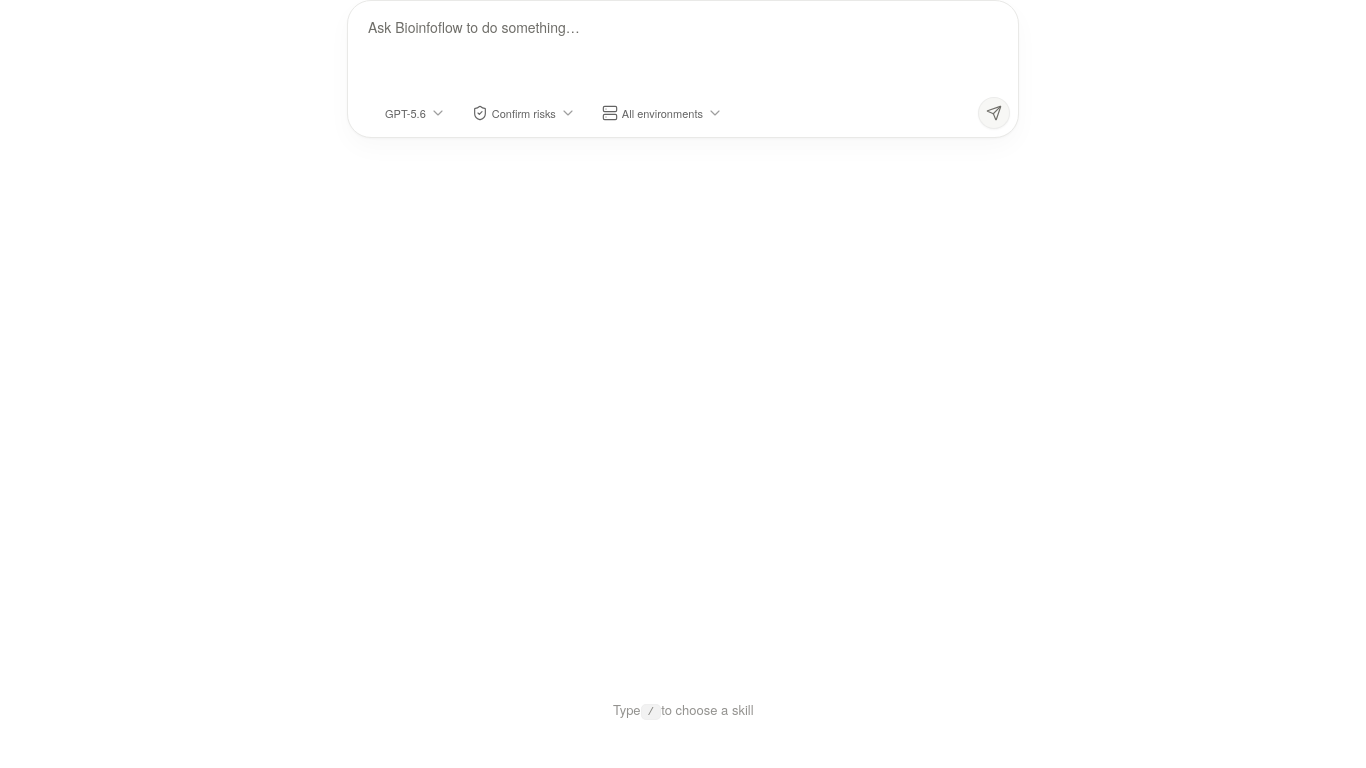
Scenario: AgentComposer › uses one option presentation across model, permission, and environment menus
Click the dropdown labelled "GPT-5.6": [405, 113] box [356, 97, 455, 129]
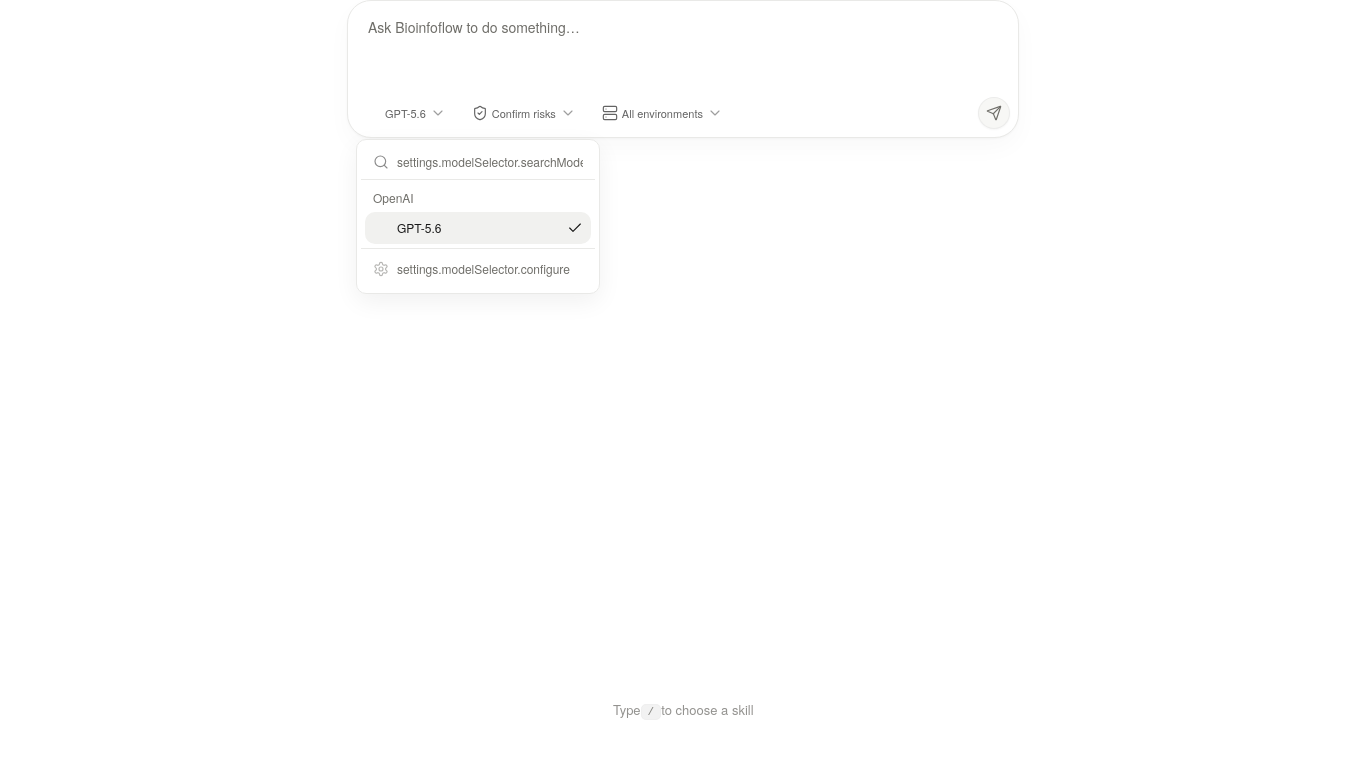
Press Escape
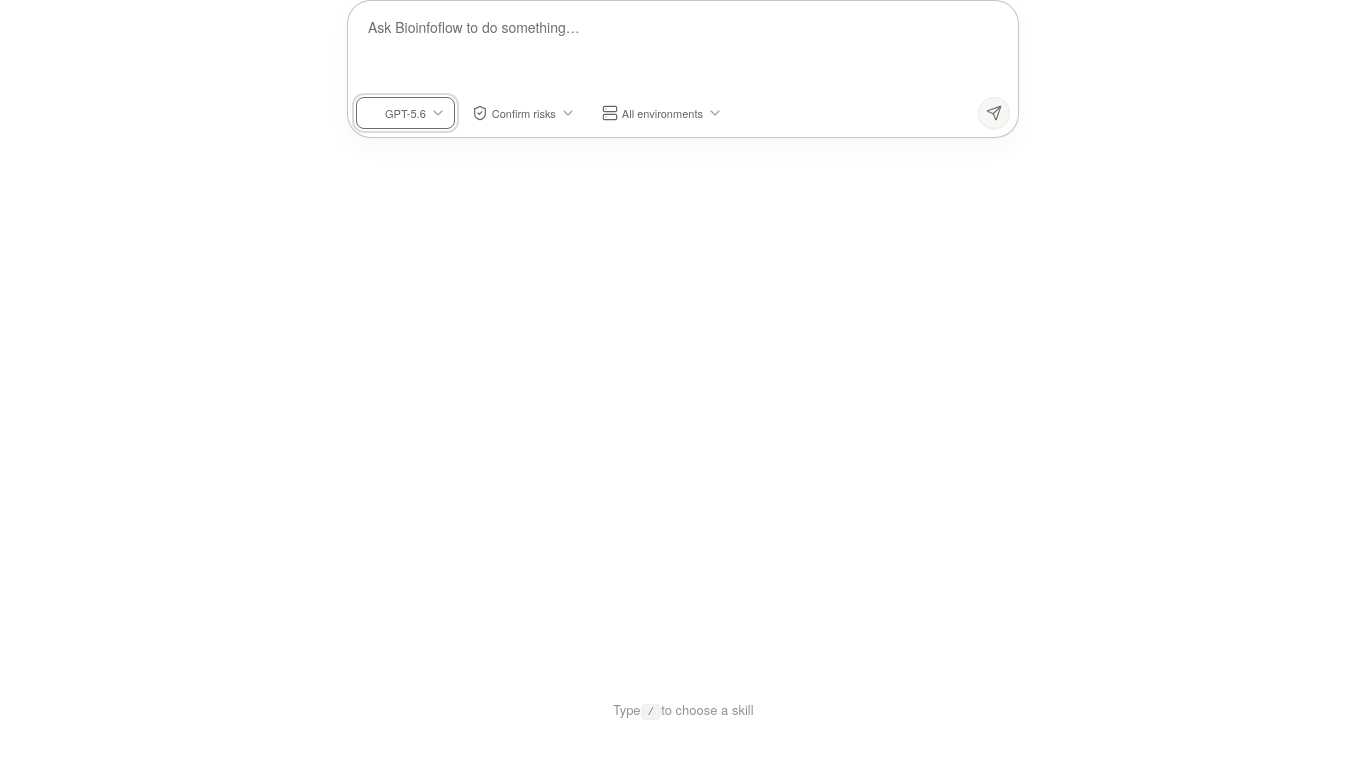
Expected: the dialog with test id "composer-selector-menu" is gone
Click the button with aria-label "Approval: Confirm risks": [524, 113] box [463, 97, 585, 129]
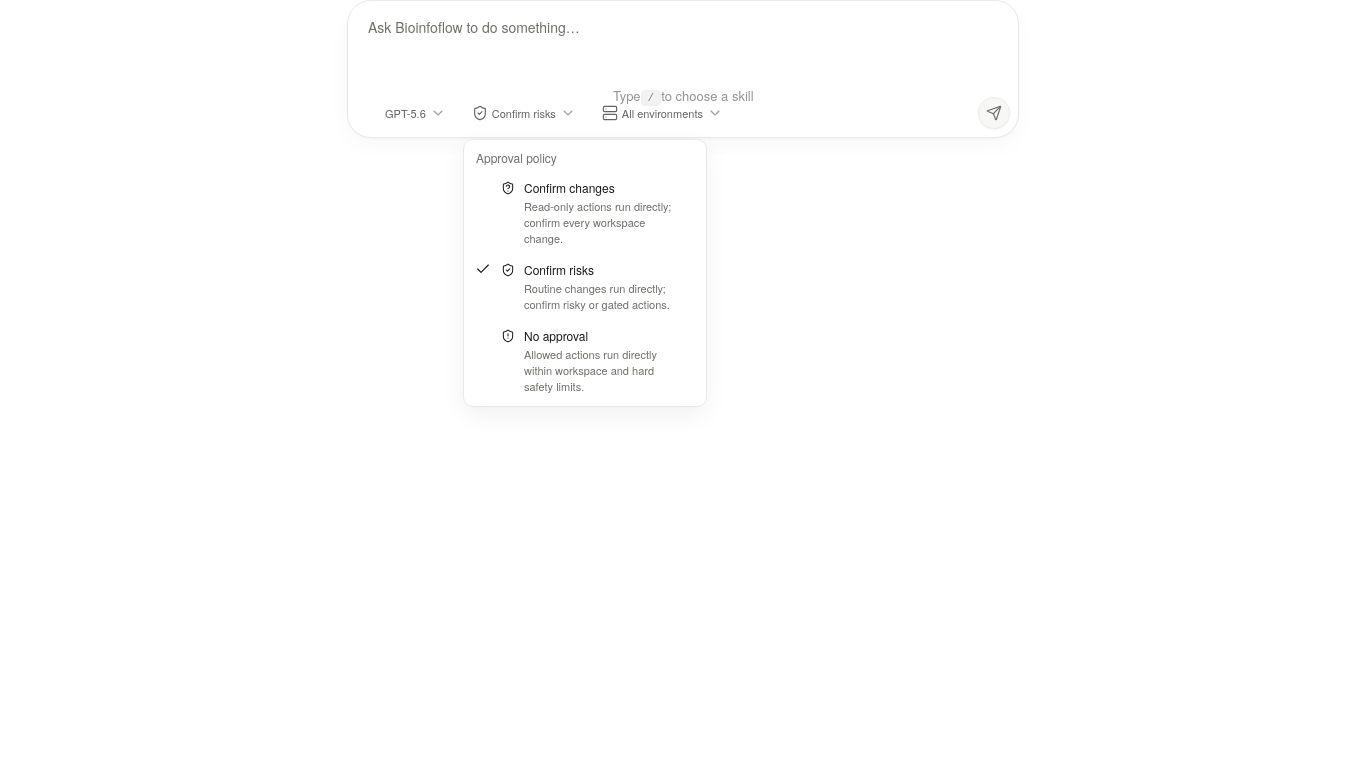
Press Escape
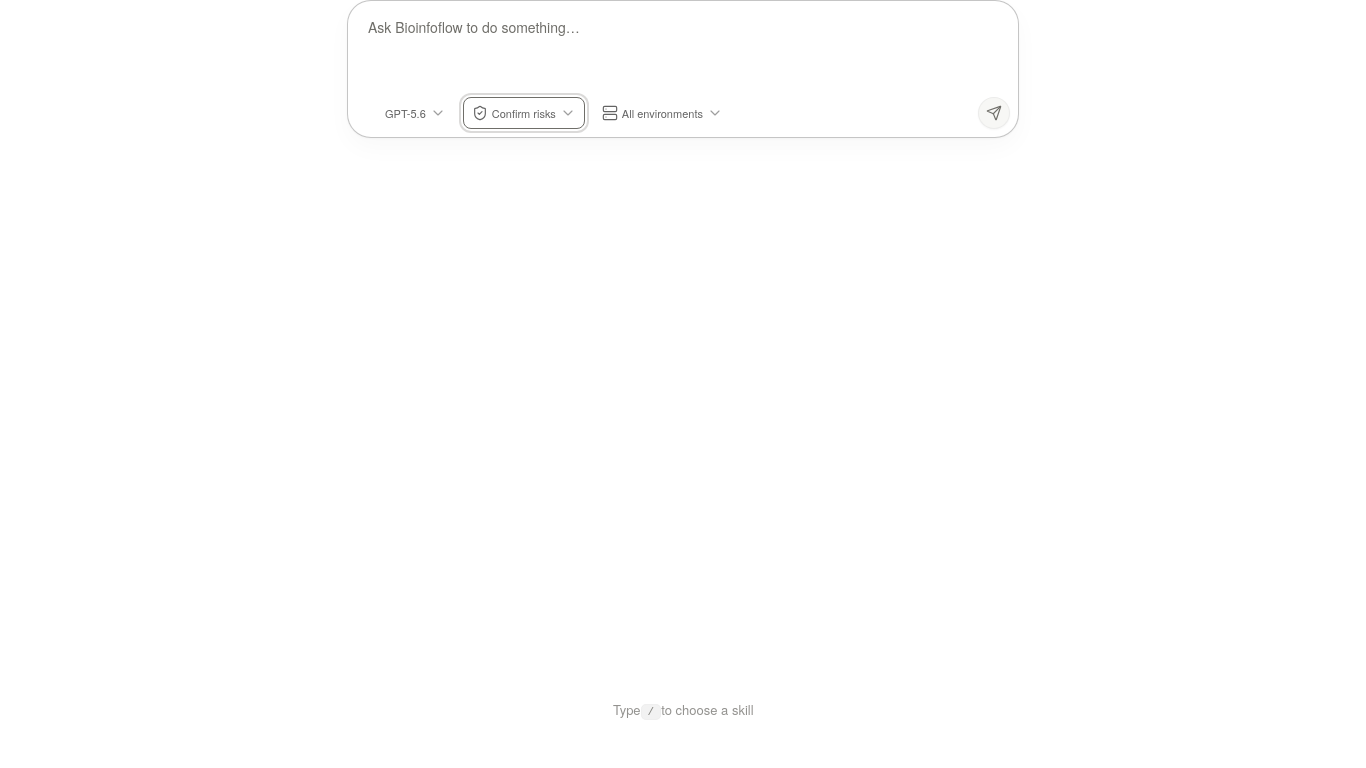
Expected: the menu with test id "composer-selector-menu" is gone
Click the button with aria-label "Execution environments: Auto, All environments": [662, 113] box [593, 97, 732, 129]
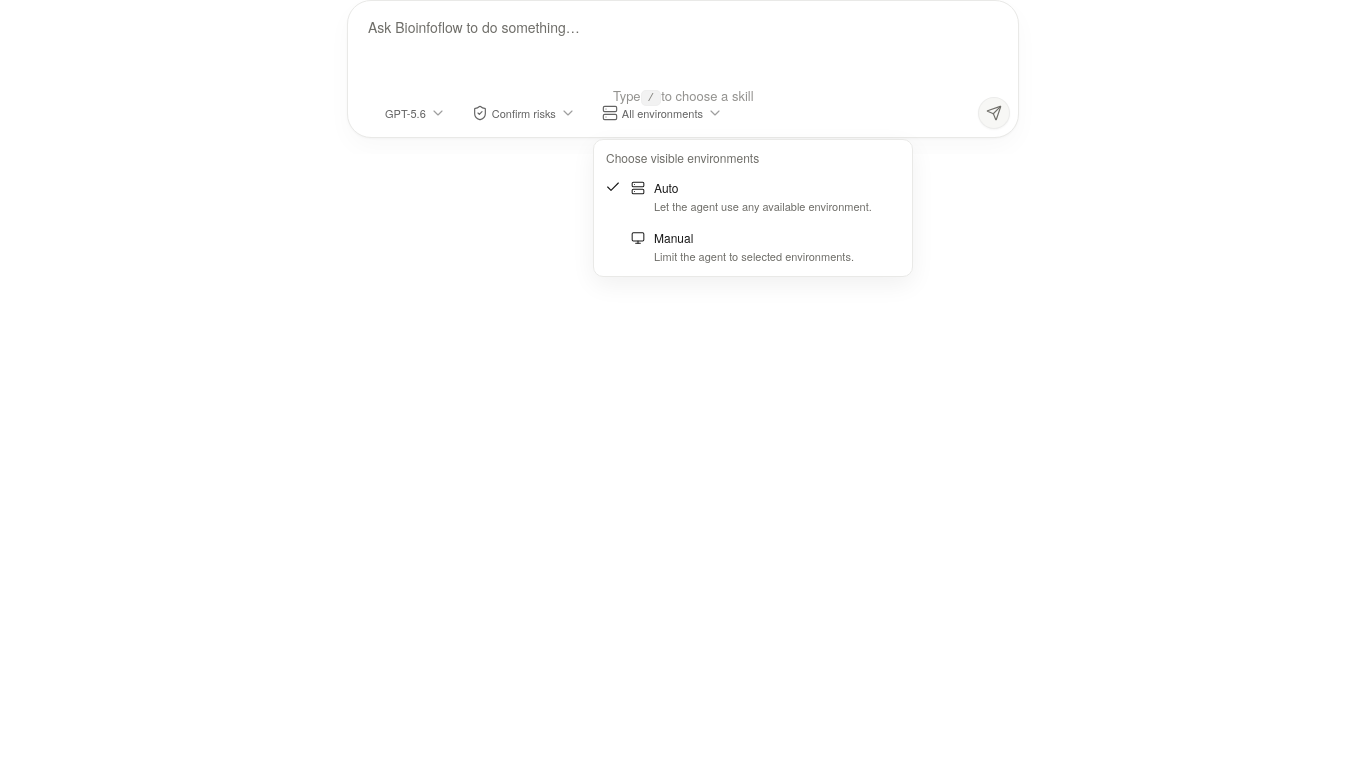
Press Escape
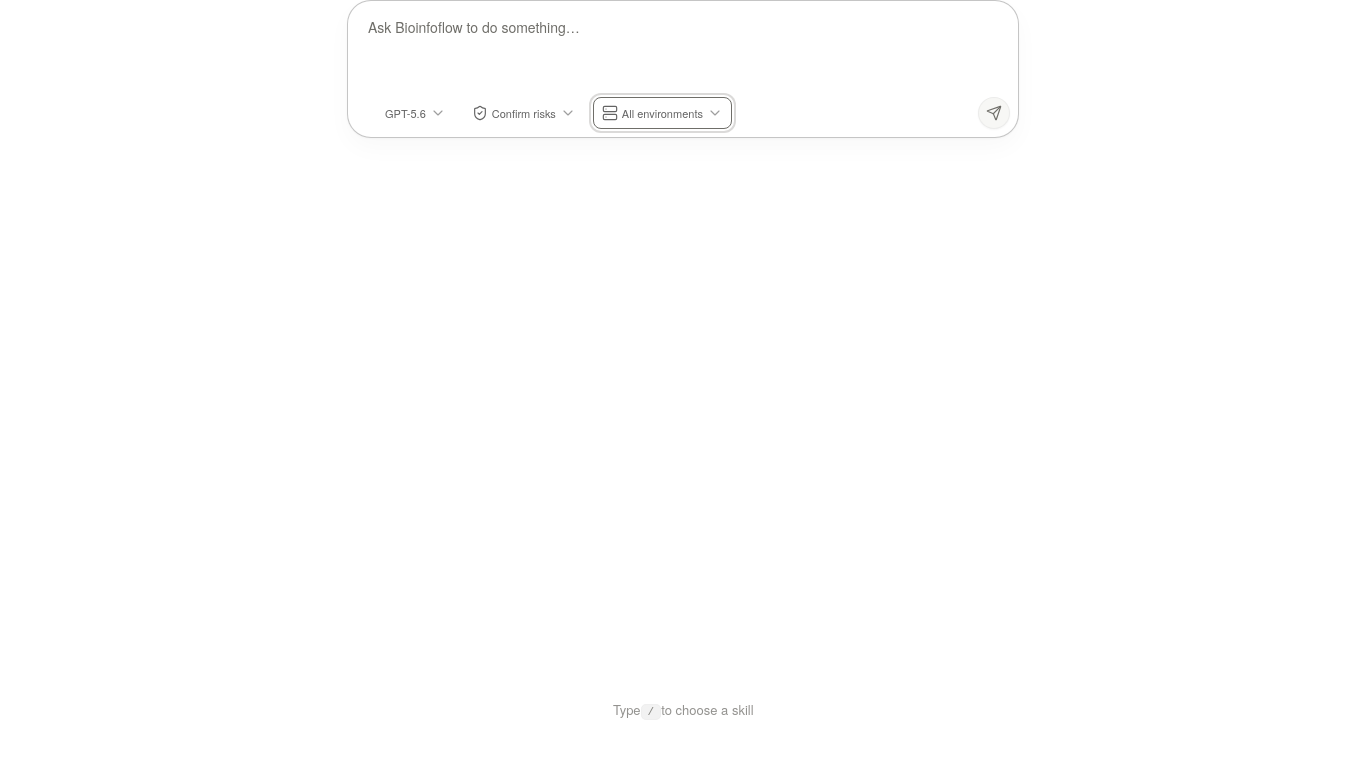
Expected: the menu with test id "composer-selector-menu" is gone
